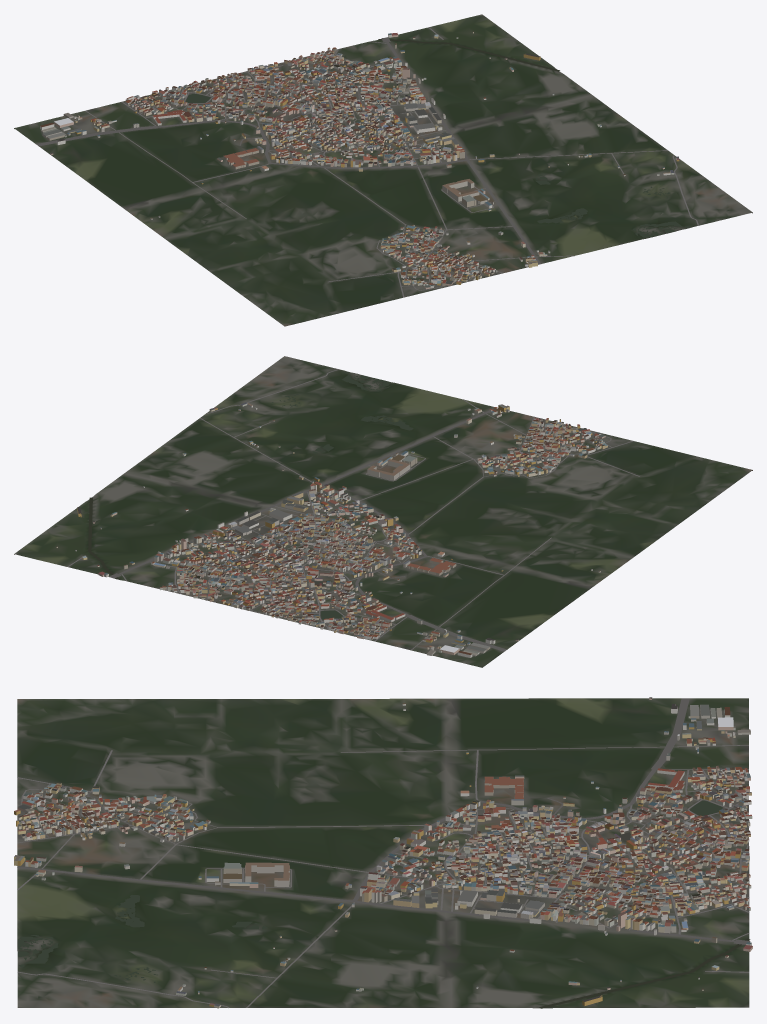
The picture shows the model from 3 angles, top to bottom: view 1: azimuth 30°, elevation 25°; view 2: azimuth 150°, elevation 25°; view 3: azimuth 270°, elevation 25°; orthographic projection. The views are drawn at different scales.
Parts seen in each view (by area): view 1: ground, buildings, roads, water; view 2: ground, buildings, roads, water; view 3: ground, buildings, roads, water.
Boxes of the visible parts, x1,y1,x2,y2 form: ground: (14, 14, 752, 326); buildings: (40, 31, 679, 289); roads: (36, 27, 698, 297); water: (185, 39, 689, 237); ground: (14, 356, 752, 667); buildings: (56, 402, 607, 657); roads: (67, 369, 639, 651); water: (88, 372, 413, 619); ground: (17, 698, 749, 1008); buildings: (14, 697, 752, 1008); roads: (17, 698, 750, 1007); water: (18, 800, 750, 1008).
Bounding box in the file's own units: 1405 × 31.38 × 1416.
